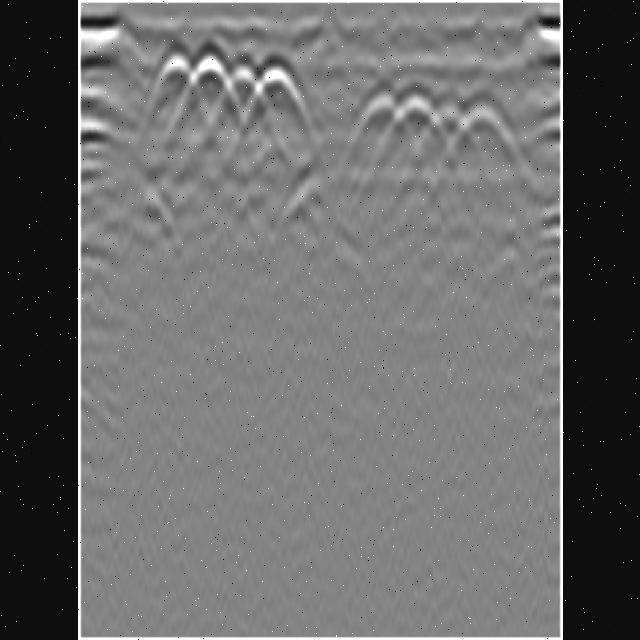hyperbola: (460, 100, 516, 166), (147, 50, 199, 108), (353, 88, 409, 138), (252, 63, 304, 115), (426, 100, 474, 156), (392, 90, 436, 146), (186, 54, 232, 106), (223, 60, 259, 114)
